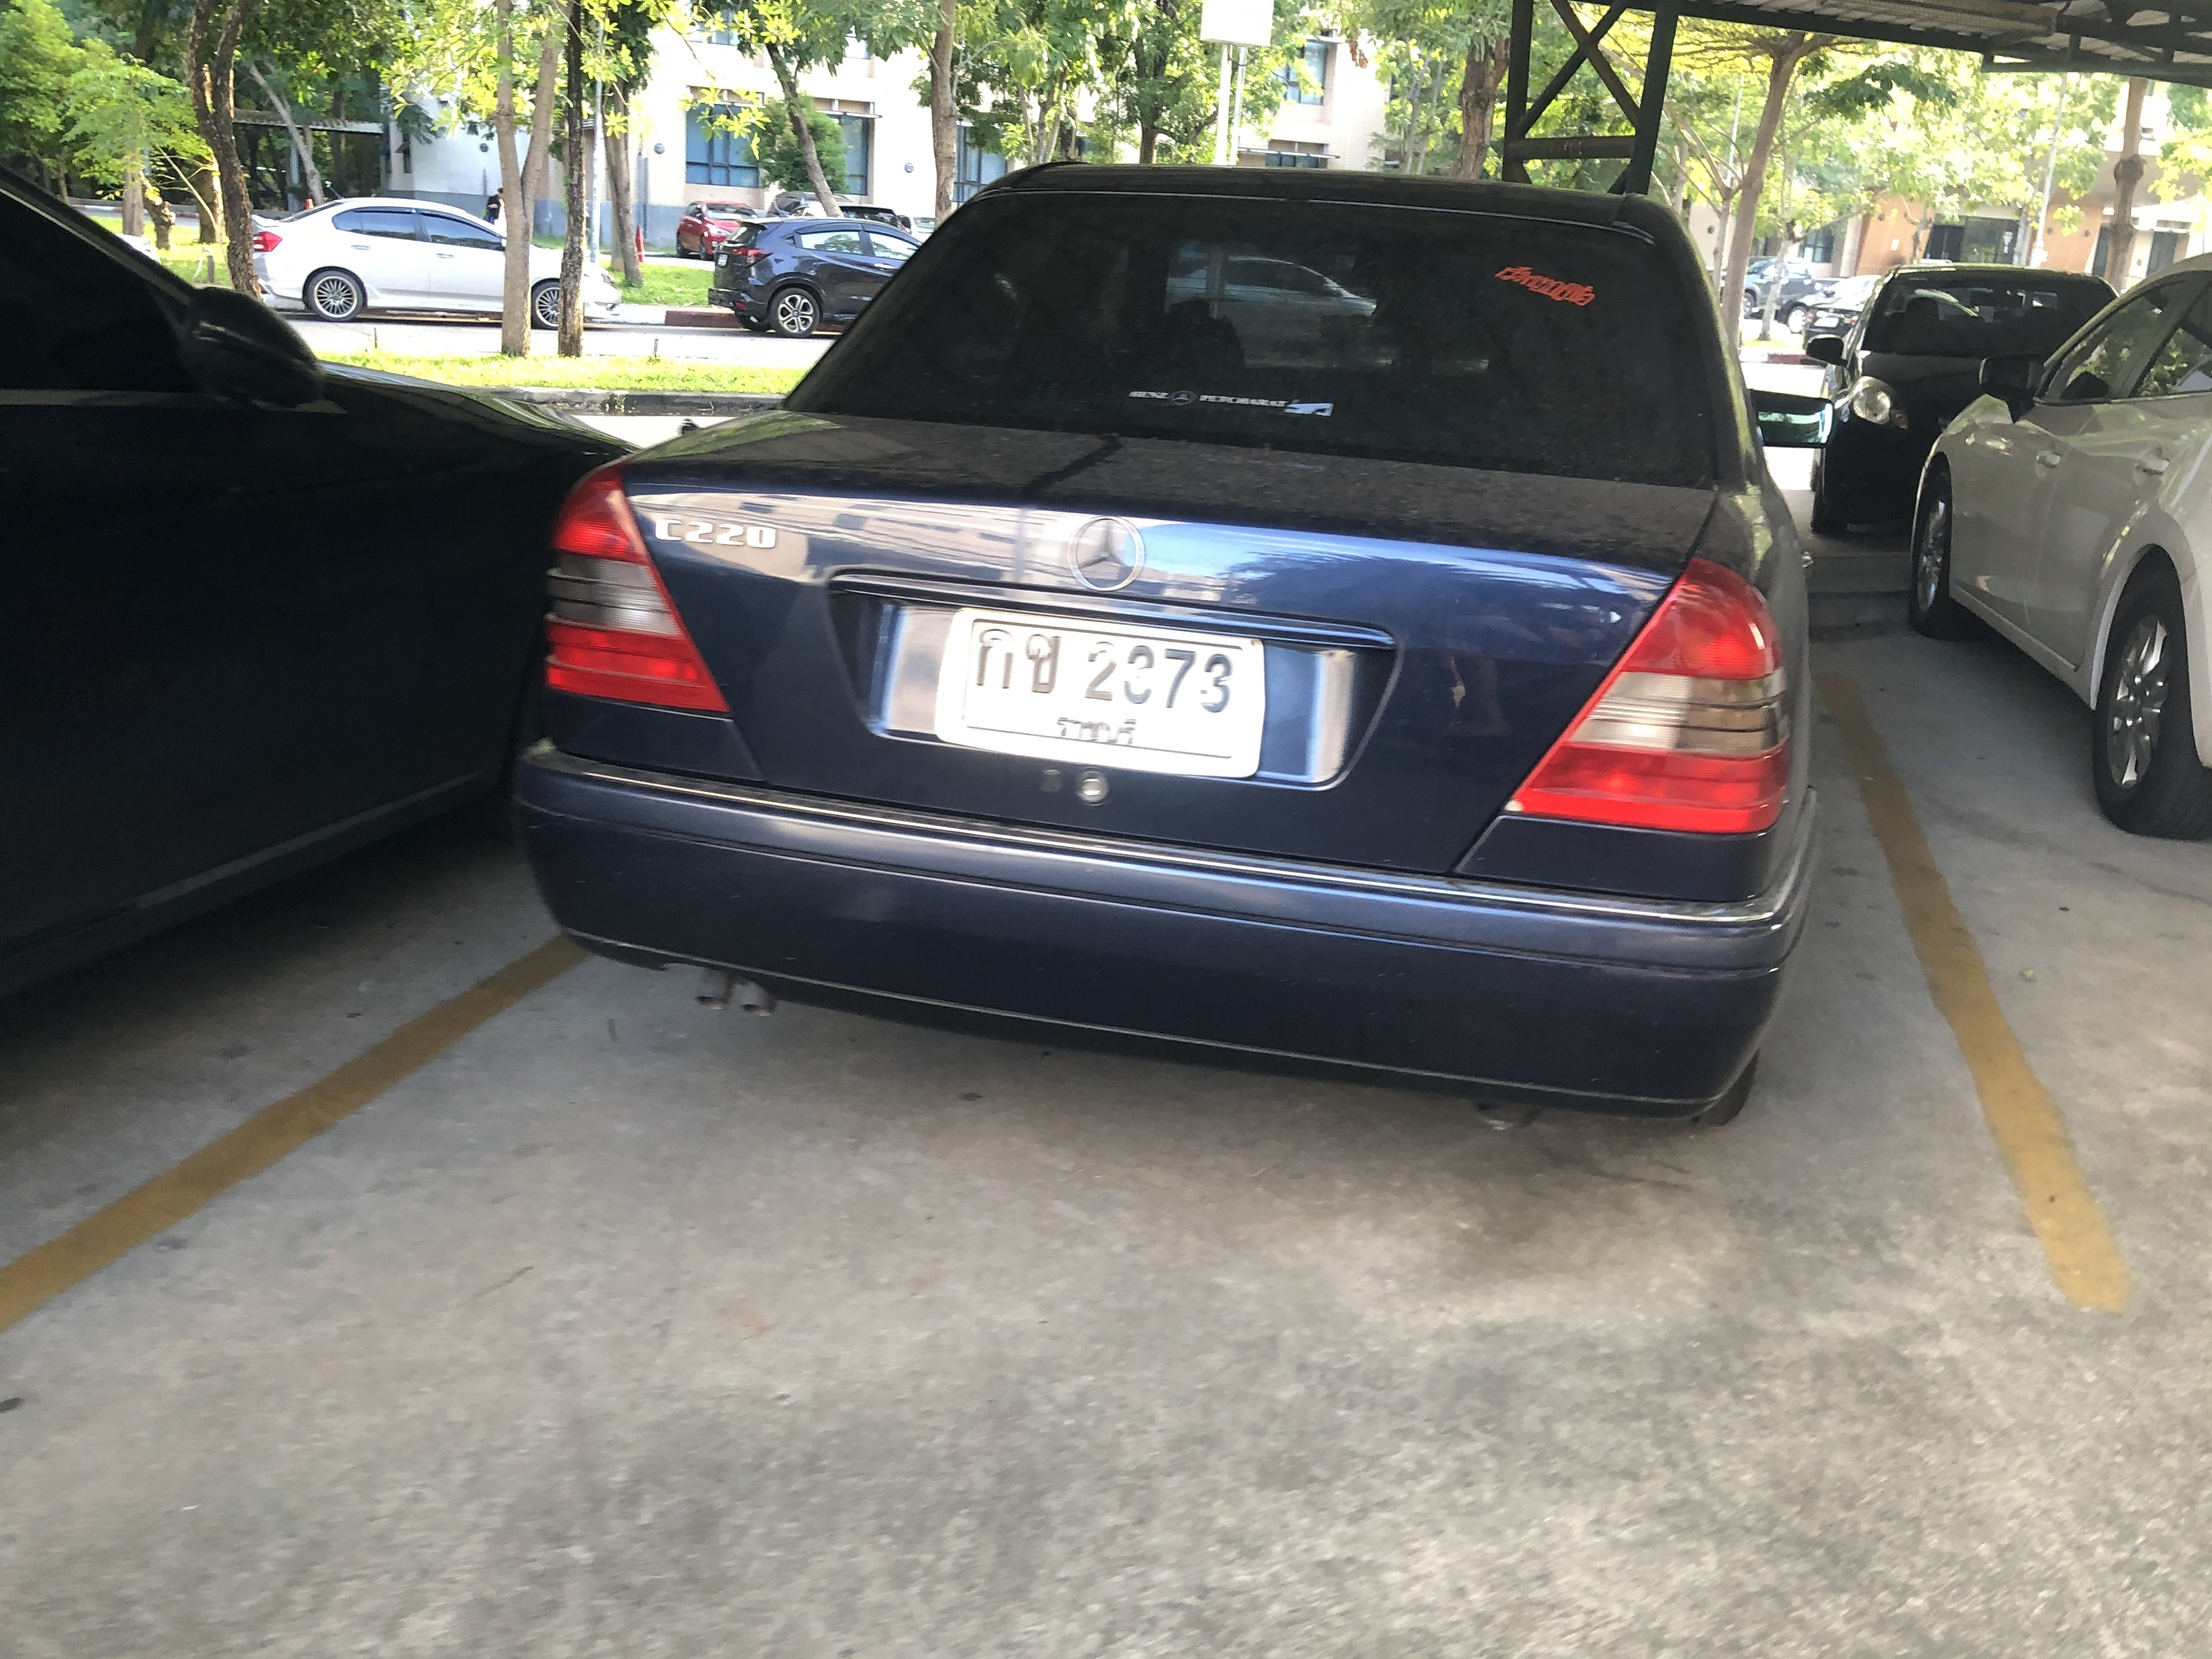in: (965, 619, 1244, 762)
out: (937, 603, 1264, 784)
